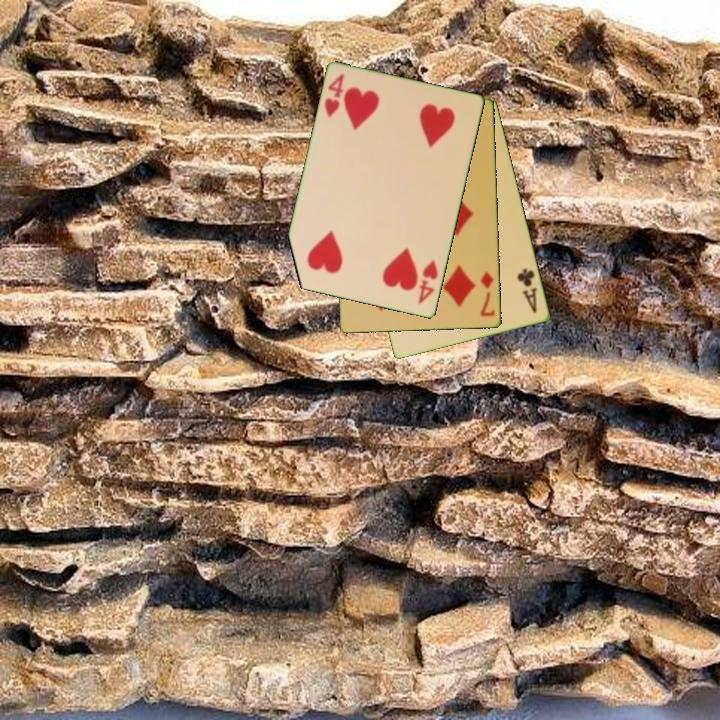4h: (415, 257, 441, 307), (321, 71, 347, 120)
7d: (477, 268, 498, 319)
Ac: (514, 265, 540, 316)
